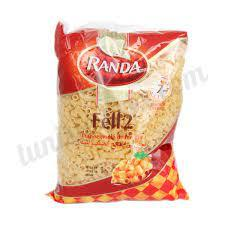Fell: (53, 24, 188, 200)
